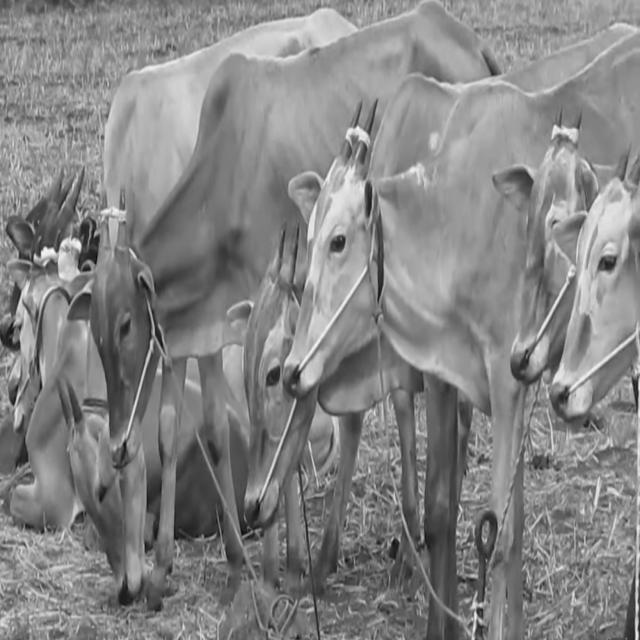Cow: (284, 155, 426, 439), (573, 116, 640, 526), (78, 186, 164, 487)
